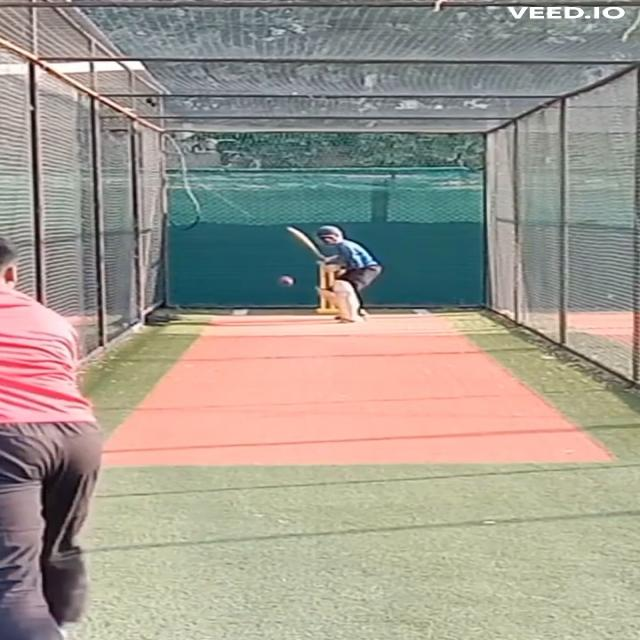ball: (278, 275, 295, 287)
stump: (317, 267, 338, 314)
